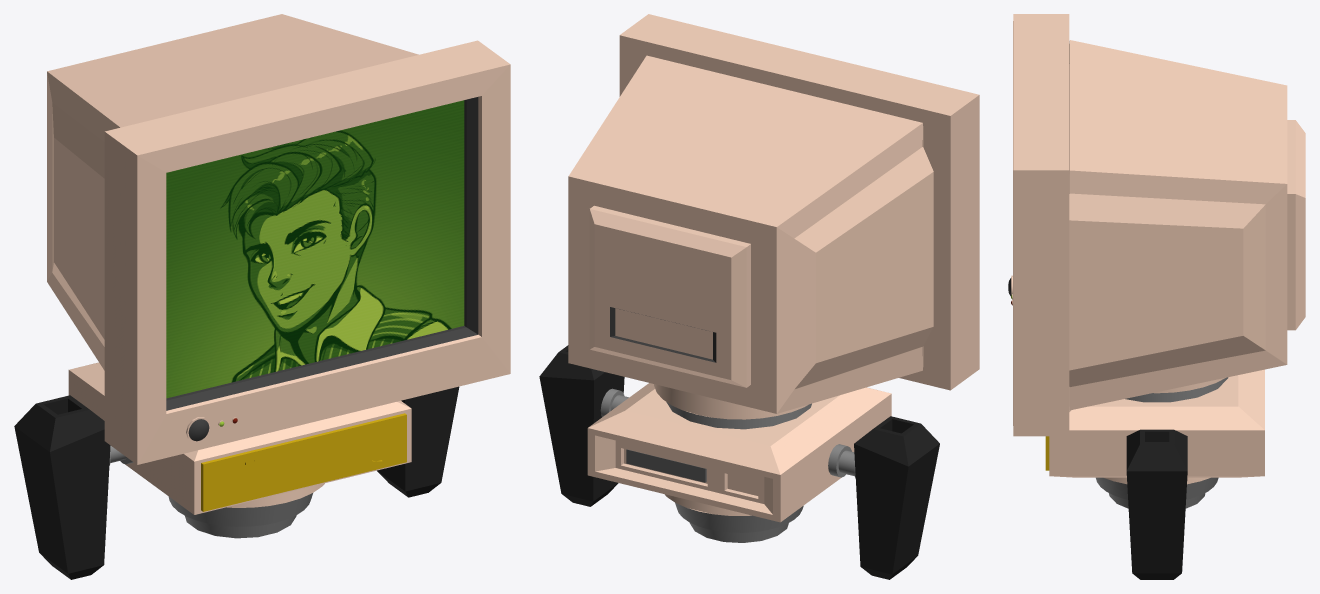
File: Eden Bot TICKET.fbx
3 views of the same model, side by side, from view 1: azimuth 30°, elevation 25°; view 2: azimuth 150°, elevation 25°; view 3: azimuth 270°, elevation 25° (orthographic). The views are drawn at different scales.
Parts seen in each view (by area): view 1: monitor front.004, monitor box.004, thrusters.004, label plate.004, monitor base.004; view 2: monitor box.004, monitor front.004, monitor base.004, thrusters.004, monitor neck.004; view 3: monitor box.004, monitor front.004, monitor base.004, thrusters.004, monitor neck.004.
Part boxes in pixels (bbox=[...]): monitor front.004: bbox=[104, 40, 510, 464]; monitor box.004: bbox=[47, 14, 418, 370]; thrusters.004: bbox=[14, 386, 459, 579]; label plate.004: bbox=[201, 413, 406, 511]; monitor base.004: bbox=[68, 362, 411, 514]; monitor box.004: bbox=[568, 55, 933, 413]; monitor front.004: bbox=[619, 14, 979, 390]; monitor base.004: bbox=[587, 383, 891, 522]; thrusters.004: bbox=[539, 345, 939, 579]; monitor neck.004: bbox=[654, 384, 811, 429]; monitor box.004: bbox=[1069, 40, 1305, 410]; monitor front.004: bbox=[1013, 14, 1069, 436]; monitor base.004: bbox=[1049, 369, 1264, 477]; thrusters.004: bbox=[1096, 429, 1218, 579]; monitor neck.004: bbox=[1125, 377, 1228, 402].
Size of the model in its own units: 70.24 by 77.49 by 50.64.
6 materials, 6 textured.
